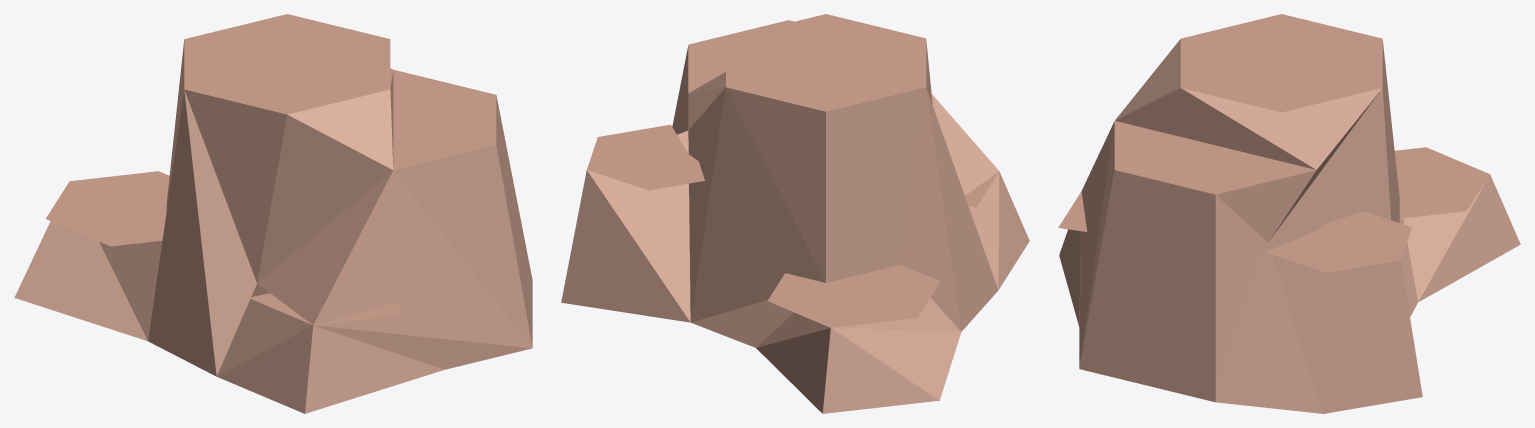
Rendered from rock_largeB.lod.glb.
3 renders of one model, left to right at view 1: azimuth 30°, elevation 25°; view 2: azimuth 150°, elevation 25°; view 3: azimuth 270°, elevation 25°, orthographic. The views are drawn at different scales.
Parts seen in each view (by area): view 1: rock_largeB; view 2: rock_largeB; view 3: rock_largeB.
Boxes of the visible parts, x1,y1,x2,y2 form: rock_largeB: (14, 14, 532, 413); rock_largeB: (561, 14, 1029, 413); rock_largeB: (1058, 14, 1520, 413).
Size of the model in its own units: 0.9278 by 0.5 by 0.881.
